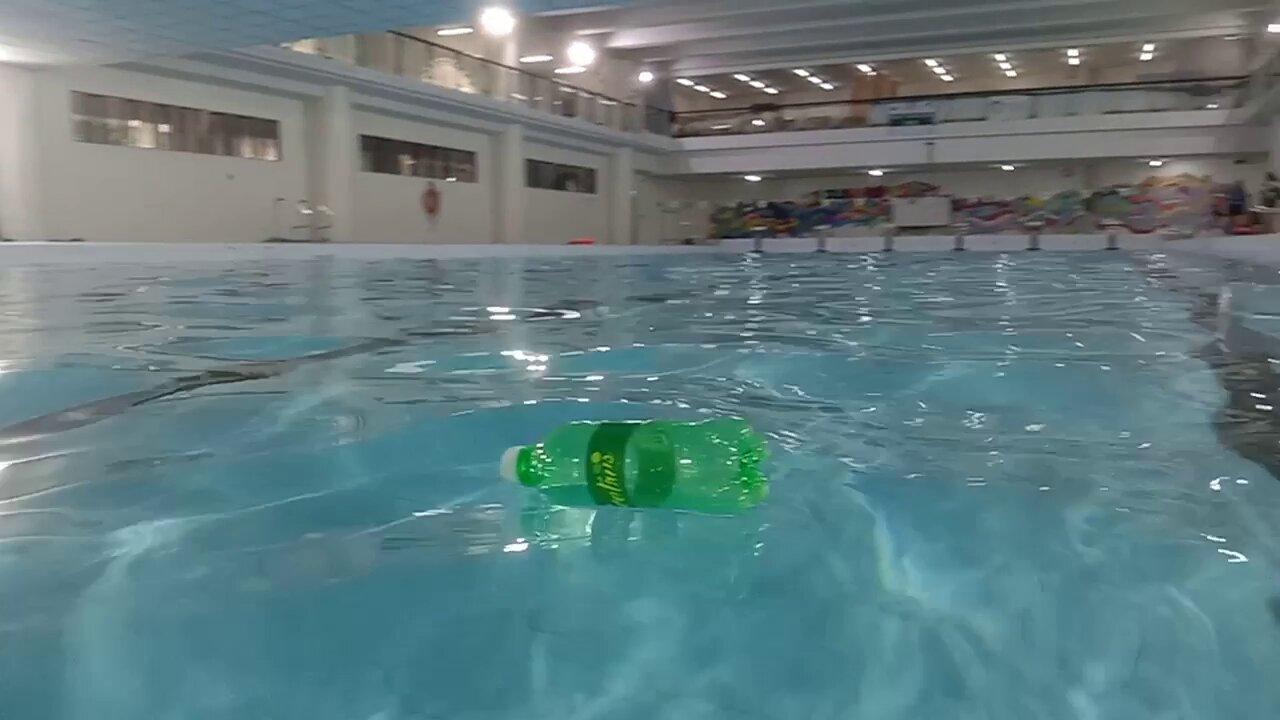plastic_bottle: (500, 413, 771, 513)
